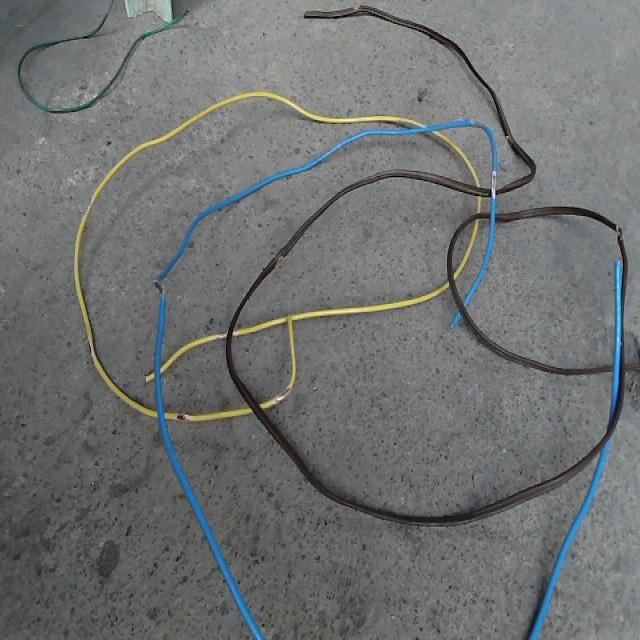-: (272, 384, 292, 401), (488, 168, 496, 199), (174, 409, 193, 422), (152, 279, 164, 293), (213, 331, 229, 338)
